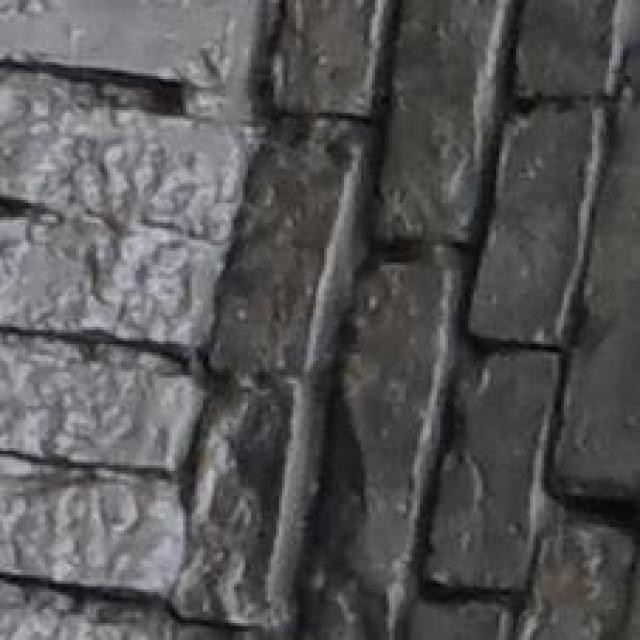Crack: (31, 0, 637, 640)
